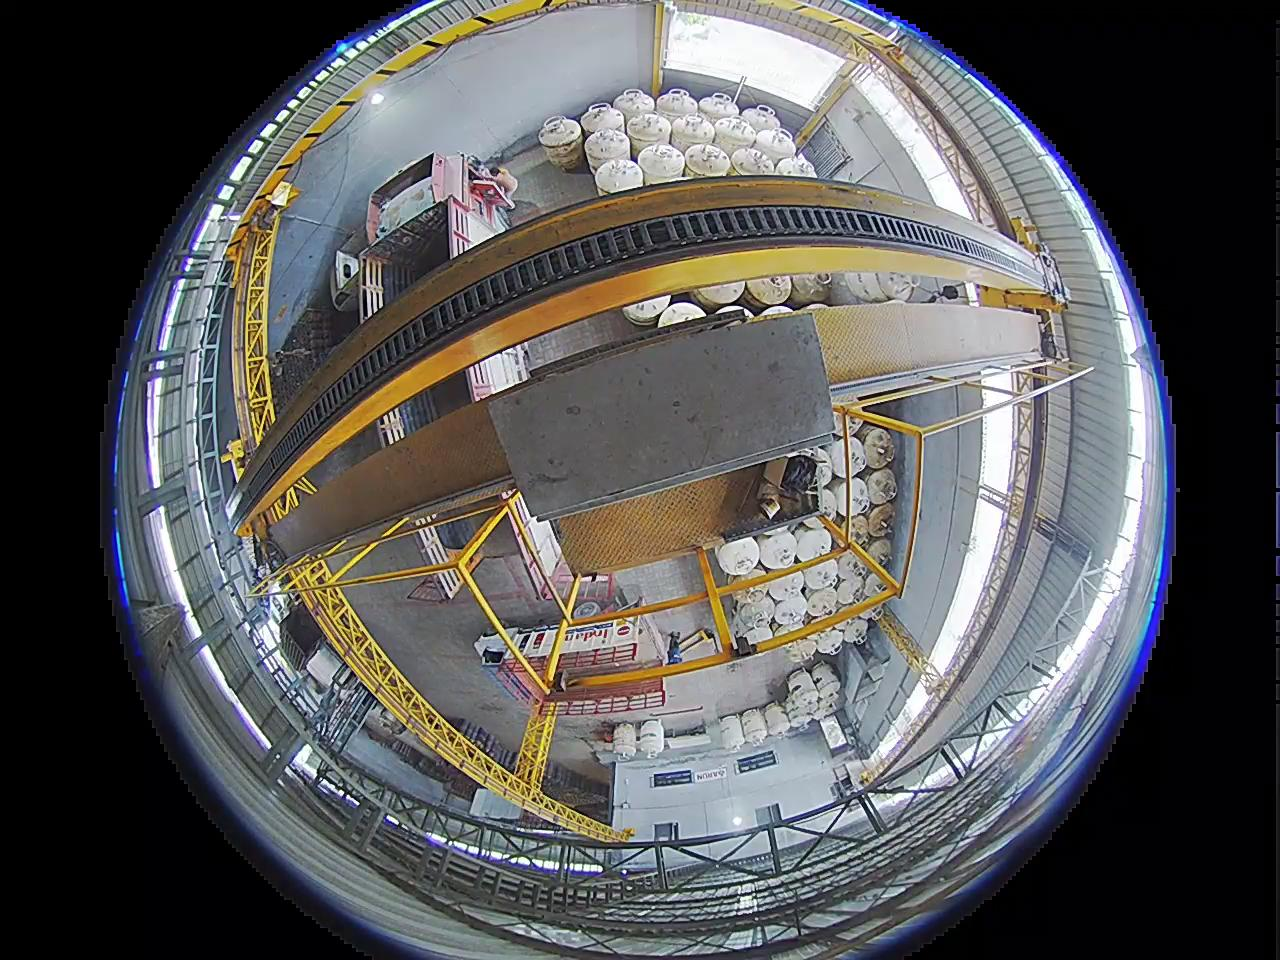cylinder: (540, 109, 593, 159), (583, 127, 630, 173), (669, 112, 716, 155), (637, 144, 686, 185), (626, 111, 670, 155), (756, 527, 800, 570), (594, 158, 643, 196), (713, 115, 757, 155), (716, 536, 760, 577), (684, 143, 731, 181), (792, 520, 833, 563), (655, 88, 697, 127), (581, 100, 624, 138), (828, 477, 868, 518), (612, 89, 654, 126), (754, 128, 796, 165), (745, 275, 793, 308), (733, 601, 773, 638), (693, 281, 746, 310), (826, 274, 872, 307), (696, 92, 738, 127), (862, 427, 896, 469), (786, 274, 830, 307), (731, 146, 775, 177), (811, 663, 843, 707), (740, 104, 780, 137), (622, 296, 669, 325), (657, 303, 707, 329), (877, 271, 918, 302), (865, 468, 898, 505), (784, 688, 818, 723), (729, 564, 767, 594), (867, 501, 897, 537), (637, 720, 664, 759), (787, 669, 818, 702), (716, 715, 745, 750), (741, 709, 768, 745), (612, 722, 637, 758), (764, 704, 791, 737), (865, 536, 893, 568), (776, 155, 815, 177), (785, 637, 818, 664), (814, 627, 845, 655), (713, 306, 752, 323)
truck: (359, 155, 517, 316), (451, 607, 686, 702), (378, 346, 527, 443), (421, 522, 472, 561), (408, 572, 460, 601)
